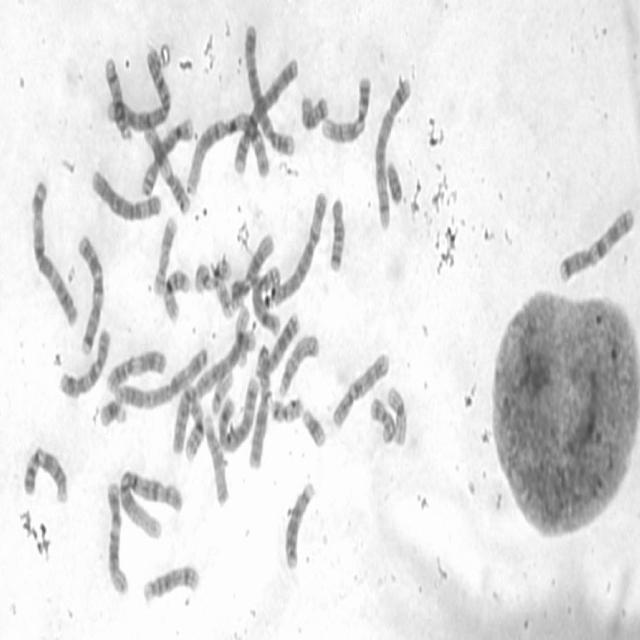A1: (185, 108, 272, 198), (116, 464, 183, 540)
A2: (172, 323, 258, 460), (105, 43, 172, 135)
A3: (27, 173, 79, 329), (110, 341, 210, 408)
B4: (231, 52, 299, 176), (242, 20, 296, 161)
B5: (372, 74, 414, 230), (216, 373, 260, 453)
C10: (329, 348, 390, 430), (56, 323, 112, 401)
C11: (141, 118, 191, 217), (104, 344, 168, 394)
C12: (228, 226, 276, 310), (104, 477, 130, 598)
C6: (267, 185, 330, 308), (90, 166, 162, 224)
C7: (556, 202, 636, 286), (76, 228, 106, 356)
C8: (137, 115, 195, 200), (249, 261, 282, 337)
C9: (318, 70, 372, 146), (20, 442, 70, 504)
D13: (282, 476, 317, 572), (252, 310, 300, 378)
D14: (140, 559, 201, 606), (101, 51, 132, 143)
D15: (276, 330, 320, 399), (202, 408, 230, 509)
E16: (181, 386, 206, 463), (160, 264, 191, 326)
E17: (152, 212, 178, 296), (211, 261, 234, 318)
E18: (327, 193, 347, 274), (298, 89, 330, 132)
F19: (385, 382, 408, 446), (232, 300, 250, 370)
F20: (367, 394, 396, 445), (268, 392, 304, 424)
G21: (300, 404, 327, 449), (96, 393, 128, 428)
G22: (210, 365, 234, 414), (193, 255, 221, 293)
X: (246, 342, 272, 470)
Y: (384, 154, 404, 205)
